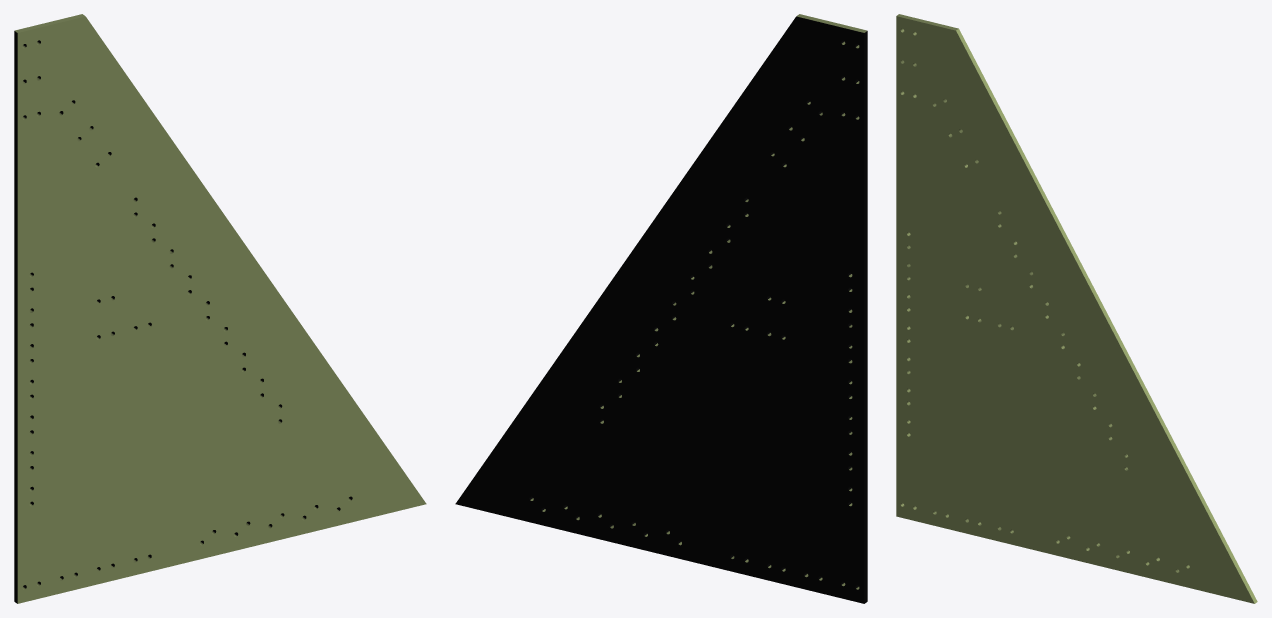
File: wing.FBX
The picture shows the model from 3 angles, left to right: view 1: azimuth 30°, elevation 25°; view 2: azimuth 150°, elevation 25°; view 3: azimuth 330°, elevation 25°; orthographic projection. The views are drawn at different scales.
Parts seen in each view (by area): view 1: WING; view 2: WING; view 3: WING.
Boxes of the visible parts, x1,y1,x2,y2 form: WING: [14, 14, 426, 603]; WING: [455, 14, 867, 603]; WING: [896, 14, 1257, 603].
Bounding box in the file's own units: 91.44 × 122 × 1.27.
1 material, 1 textured.
